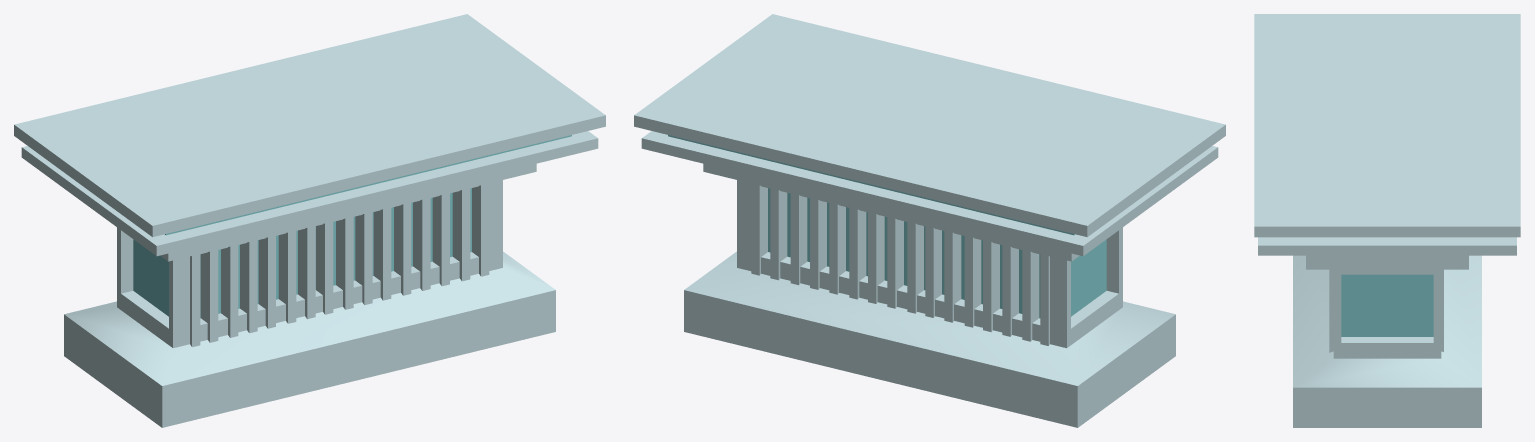
Rendered from ending_block.fbx.
The picture shows the model from 3 angles, left to right: view 1: azimuth 30°, elevation 25°; view 2: azimuth 150°, elevation 25°; view 3: azimuth 270°, elevation 25°; orthographic projection. The views are drawn at different scales.
Visible parts, largest first — view 1: ending_block; view 2: ending_block; view 3: ending_block.
Part boxes in pixels (<box>): ending_block: <box>14,14,605,427</box>; ending_block: <box>634,14,1225,427</box>; ending_block: <box>1254,14,1520,427</box>.
Bounding box in the file's own units: 6617 × 3125 × 3501.
